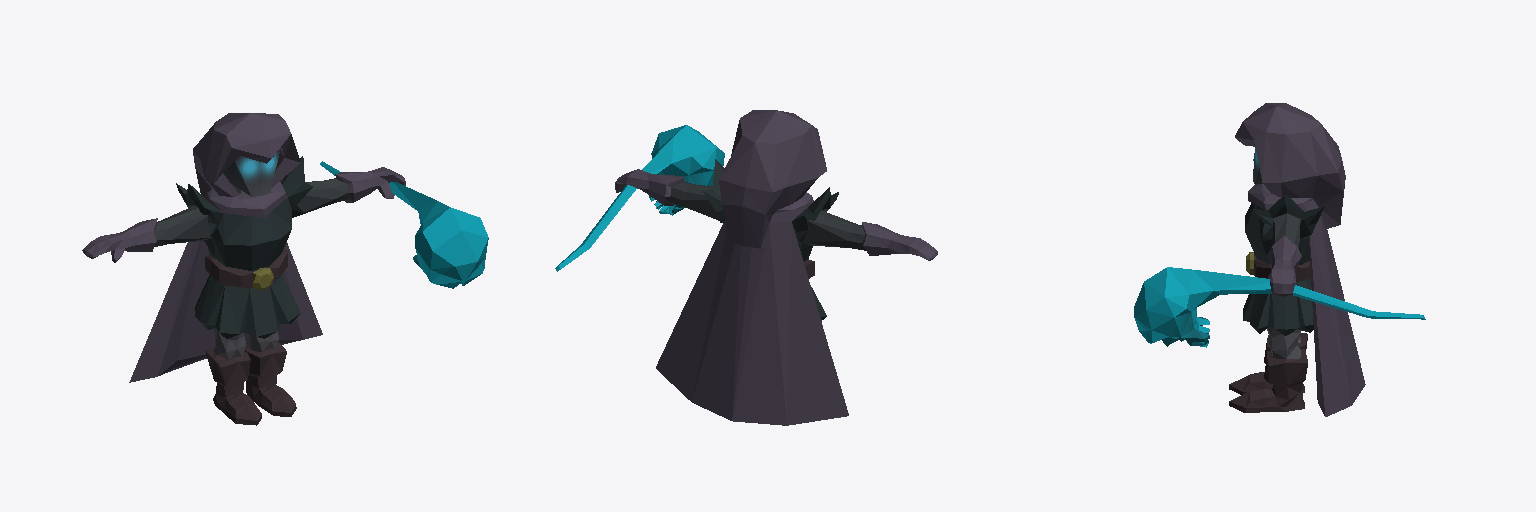
3 renders of one model, left to right at view 1: azimuth 30°, elevation 25°; view 2: azimuth 150°, elevation 25°; view 3: azimuth 270°, elevation 25°, orthographic.
Visible parts, largest first — view 1: NecroMan1; view 2: NecroMan1; view 3: NecroMan1.
Boxes of the visible parts, x1,y1,x2,y2 form: NecroMan1: [82, 113, 488, 425]; NecroMan1: [555, 110, 937, 425]; NecroMan1: [1134, 103, 1425, 416].
Size of the model in its own units: 6.84 by 5.64 by 5.11.
Materials: 1 (1 with a texture image).